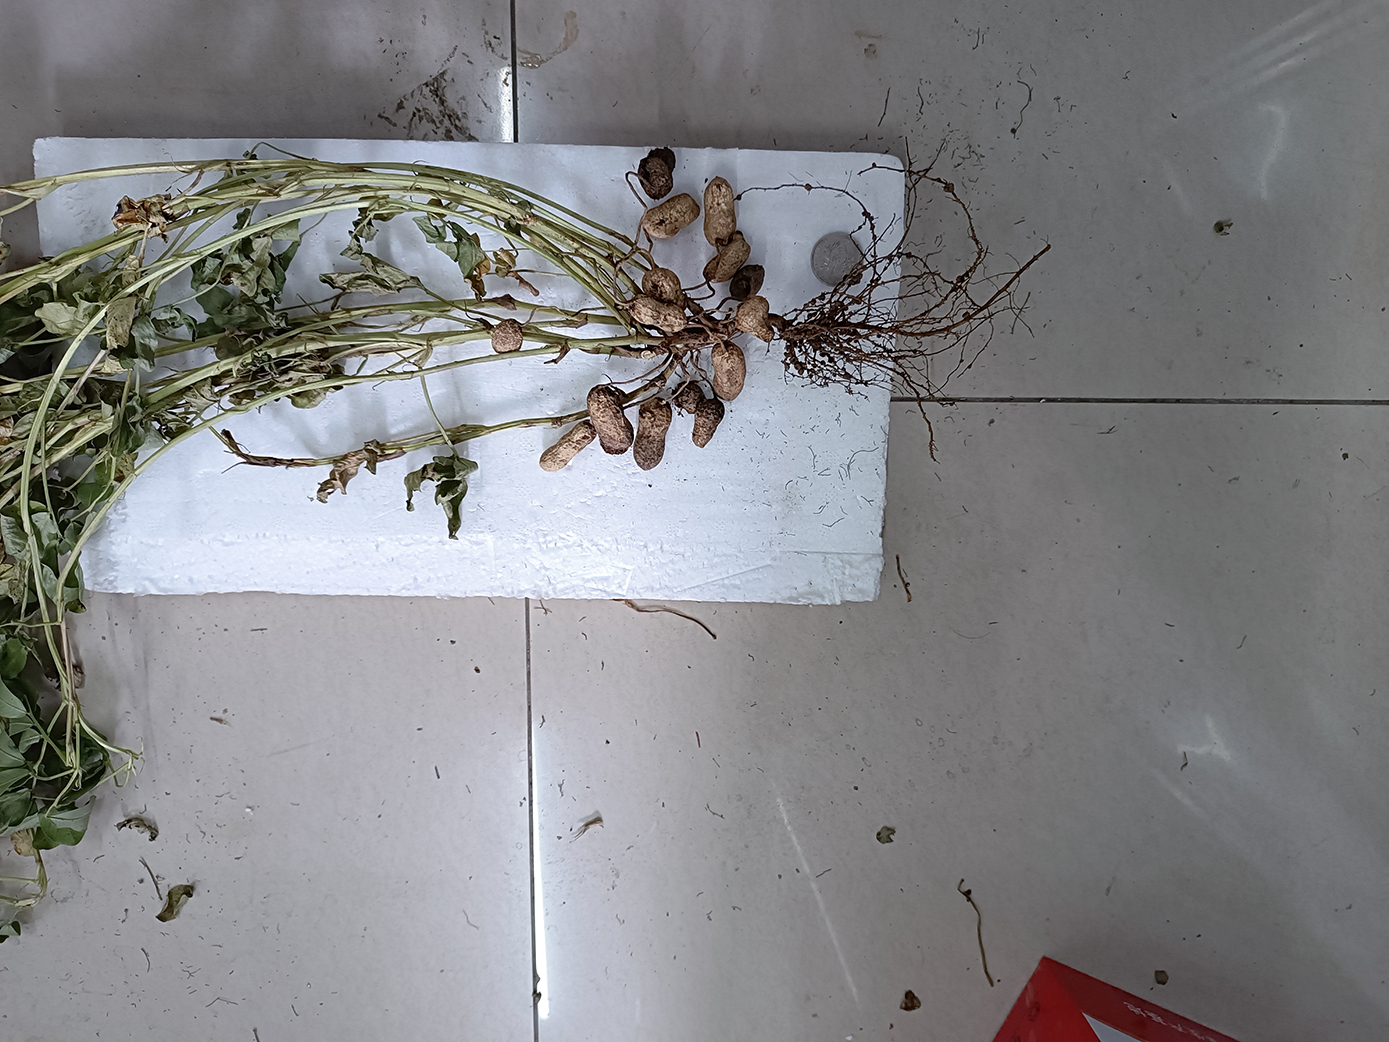h: (539, 421, 598, 475), (702, 230, 750, 283), (704, 175, 739, 247), (643, 195, 699, 239), (711, 339, 748, 400), (630, 296, 686, 332), (736, 293, 774, 340), (643, 266, 686, 306), (491, 319, 524, 354)
l: (586, 385, 633, 454), (633, 397, 672, 471), (640, 148, 680, 198), (692, 401, 725, 447), (730, 263, 764, 301), (674, 380, 702, 412)
